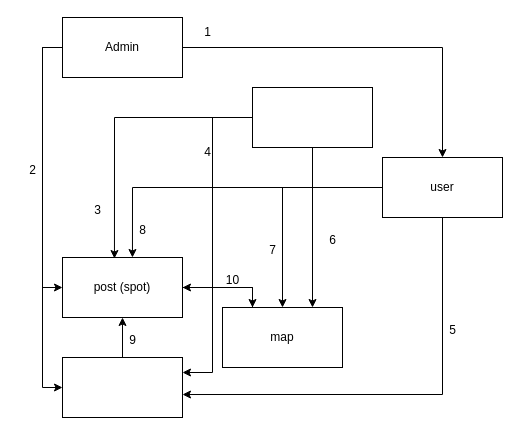
Image size: 520x435. Some labels were removed from this diagram. The box of each missing label's shape, as (x1, y1, x2, y2) in pixels:
comments: (62, 356, 182, 418)
guest: (252, 86, 372, 148)
